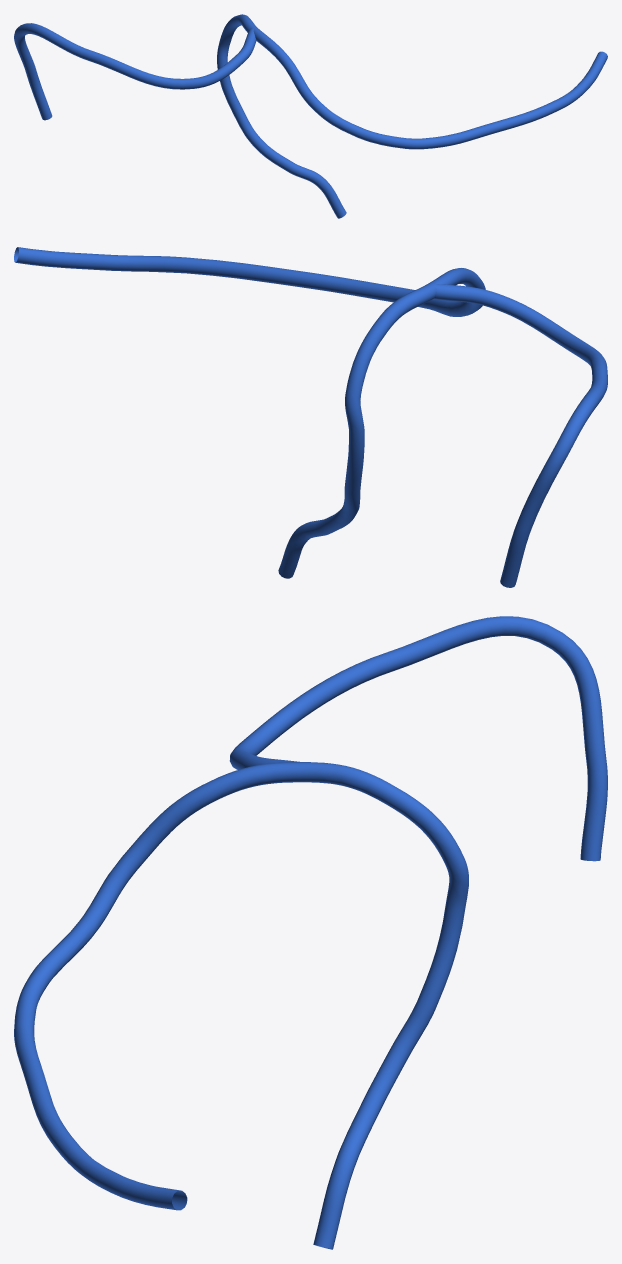
Rendered from circulatorio-right-gastro-omental-vein.glb.
The picture shows the model from 3 angles, top to bottom: view 1: azimuth 30°, elevation 25°; view 2: azimuth 150°, elevation 25°; view 3: azimuth 270°, elevation 25°; orthographic projection. The views are drawn at different scales.
Visible parts, largest first — view 1: Right gastro-omental vein; view 2: Right gastro-omental vein; view 3: Right gastro-omental vein.
Boxes of the visible parts, x1,y1,x2,y2 form: Right gastro-omental vein: (14,14,607,218); Right gastro-omental vein: (14,247,607,587); Right gastro-omental vein: (14,616,607,1249).
Size of the model in its own units: 0.1028 by 0.0441 by 0.0586.
